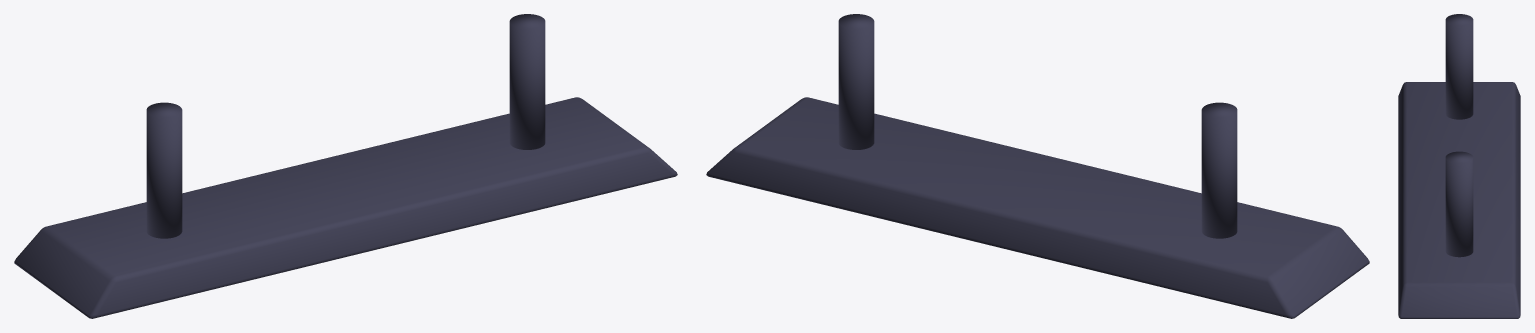
Rendered from light.glb.
3 renders of one model, left to right at view 1: azimuth 30°, elevation 25°; view 2: azimuth 150°, elevation 25°; view 3: azimuth 270°, elevation 25°, orthographic. The views are drawn at different scales.
Parts seen in each view (by area): view 1: light; view 2: light; view 3: light.
Boxes of the visible parts, <box> form: light: <box>14,14,677,318</box>; light: <box>706,14,1369,318</box>; light: <box>1398,14,1520,318</box>.
Bounding box in the file's own units: 1.3 × 0.3258 × 0.302.
Materials: 1 (1 with a texture image).
